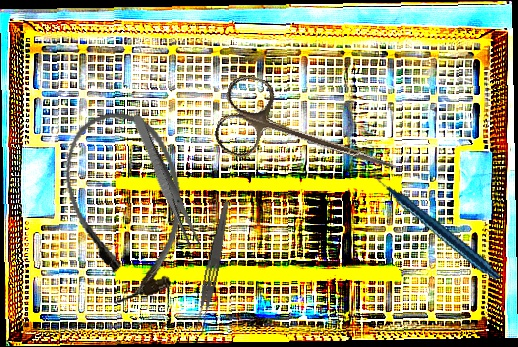Cannula: (53, 101, 200, 310)
Dressing Forceps: (127, 112, 203, 251), (191, 198, 233, 338)
Handpiece: (371, 144, 503, 303)
Iris Scissors: (210, 70, 410, 203)
